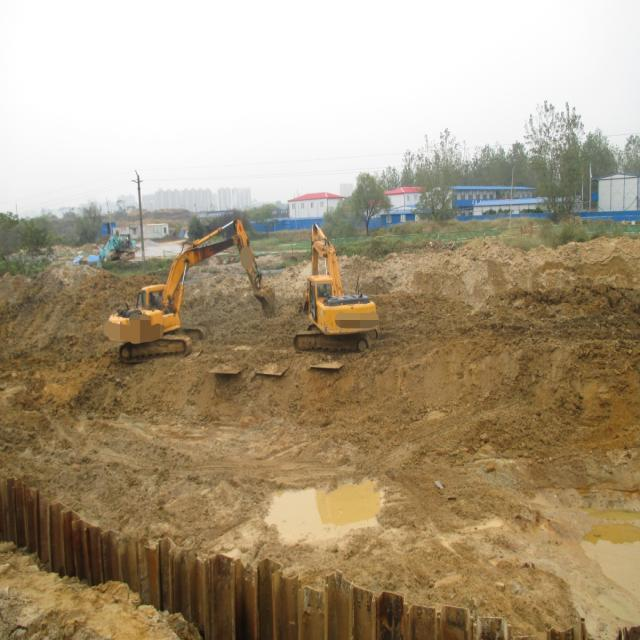excavator: (104, 218, 275, 363), (292, 221, 379, 353), (97, 230, 134, 268)
